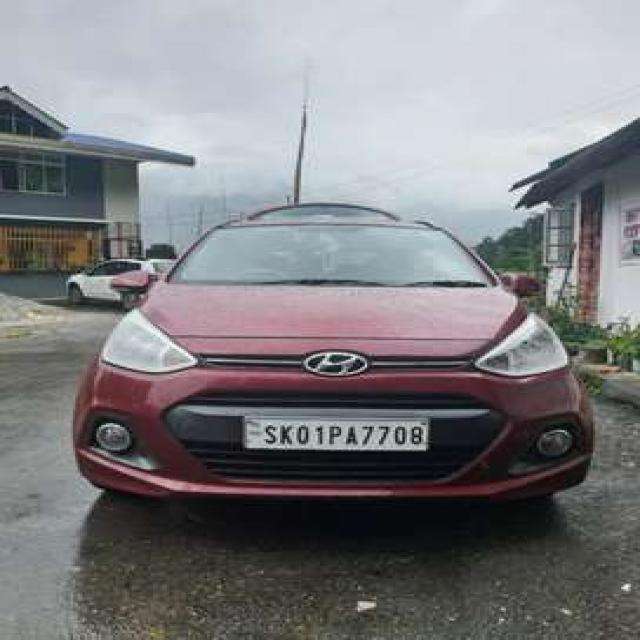Plate: (244, 417, 430, 451)
